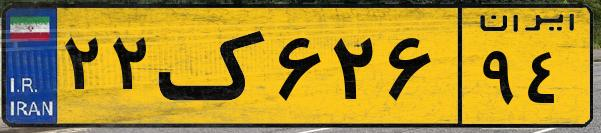2: (330, 28, 385, 110), (57, 26, 110, 100), (110, 28, 158, 98)
4: (525, 38, 570, 115)
6: (270, 28, 330, 110), (385, 28, 445, 110)
9: (475, 38, 525, 113)
ک: (158, 12, 270, 120)
